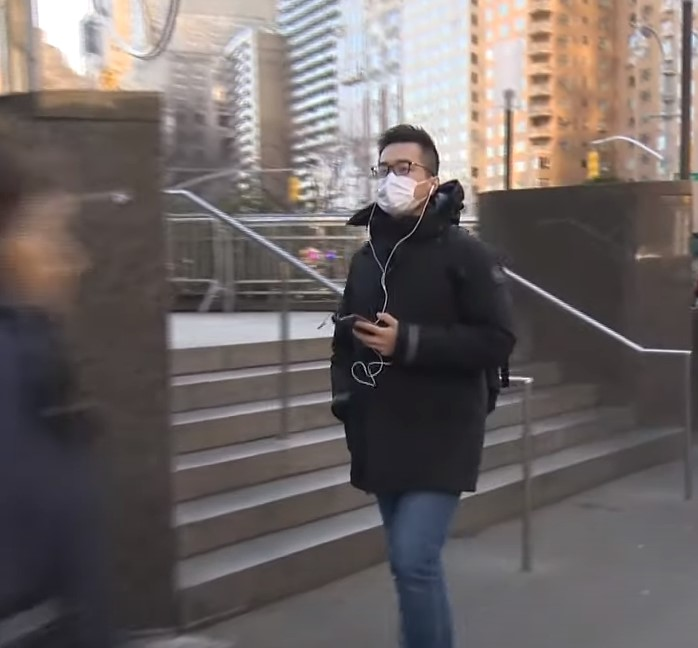face_with_mask: (370, 124, 440, 220)
